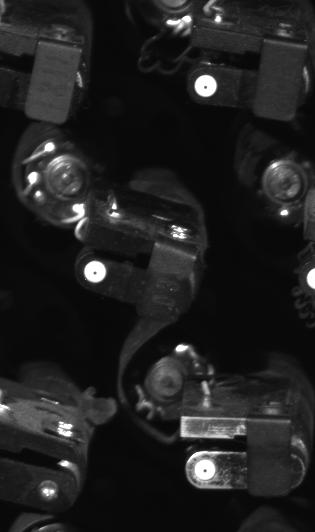fiber: (188, 455, 224, 488), (81, 257, 118, 287), (192, 72, 227, 101)
